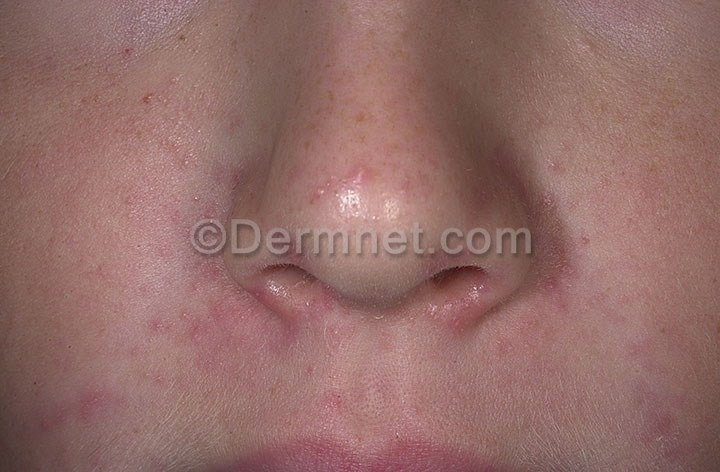Acne: (95, 56, 562, 384)
